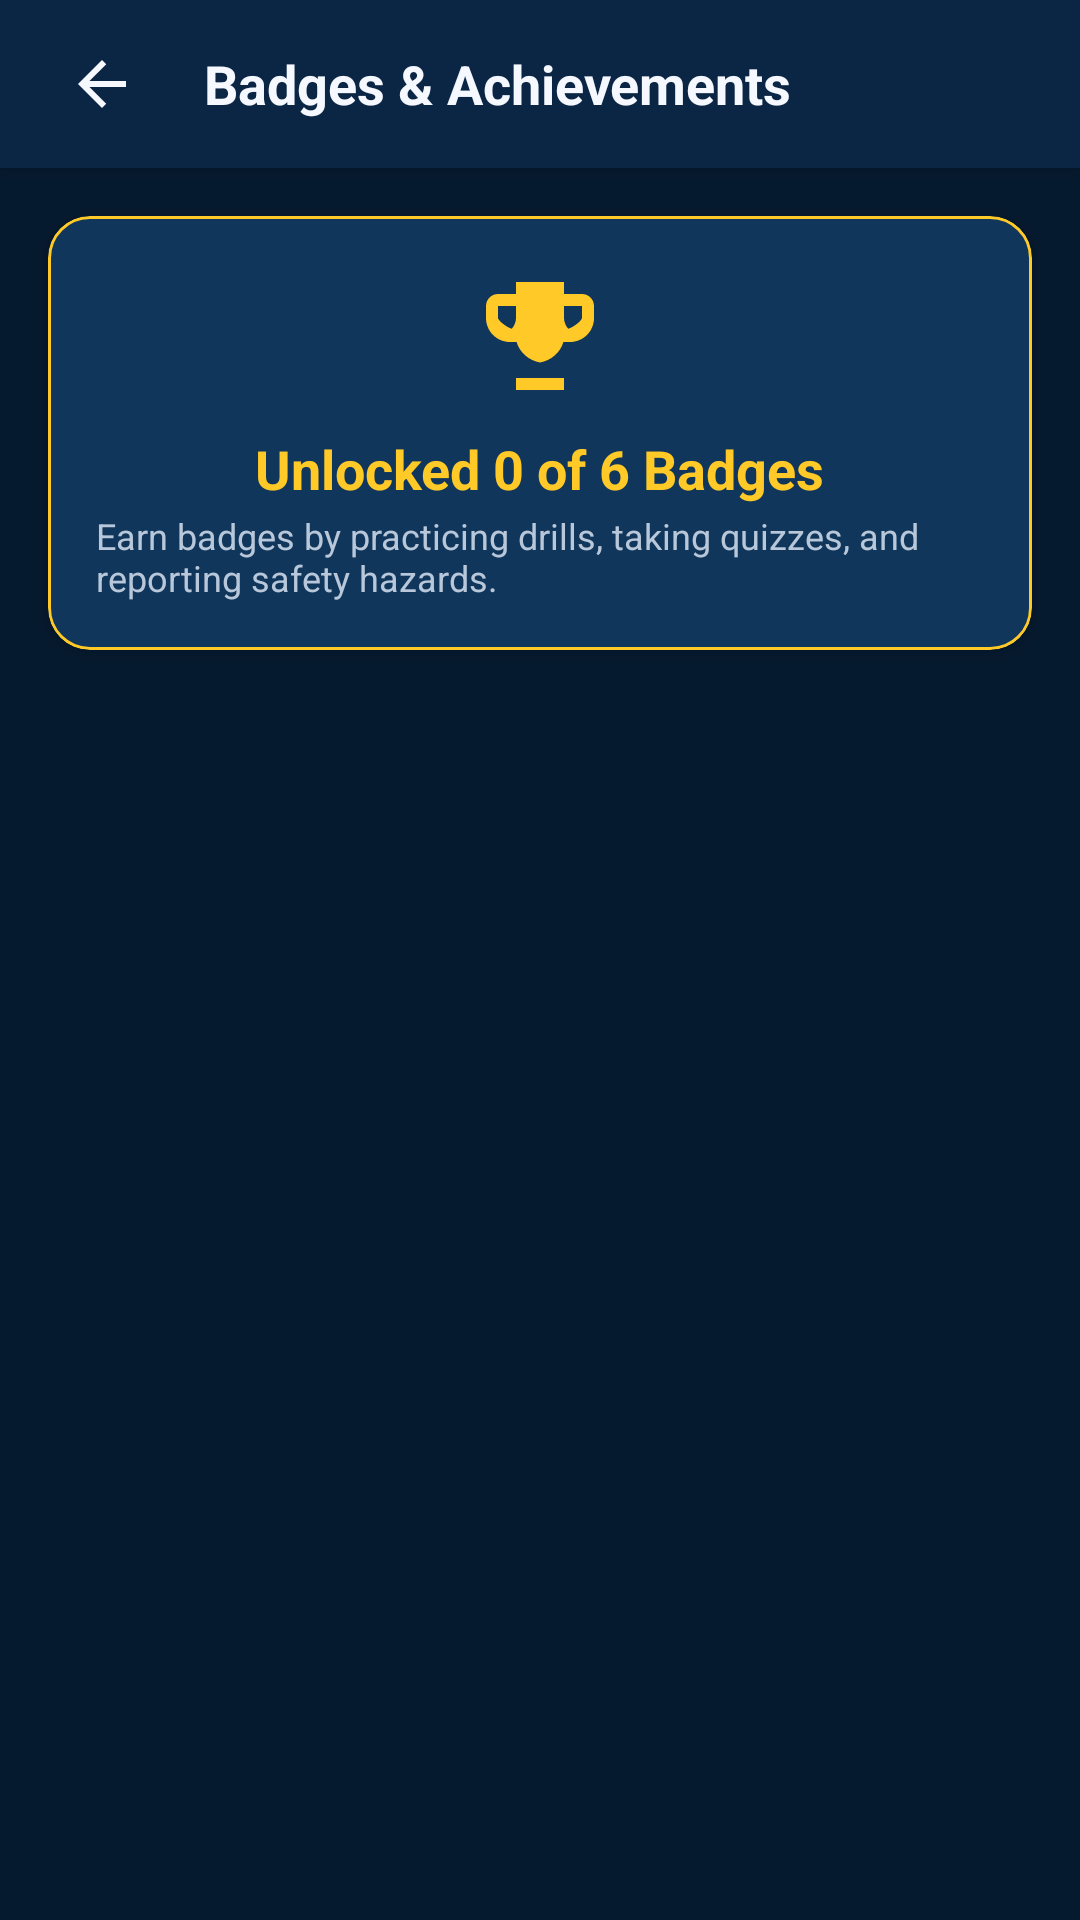

Screen size 1080px x 1920px. Icon name, then its center in pixels as (x,y):
Back: (102,84)
